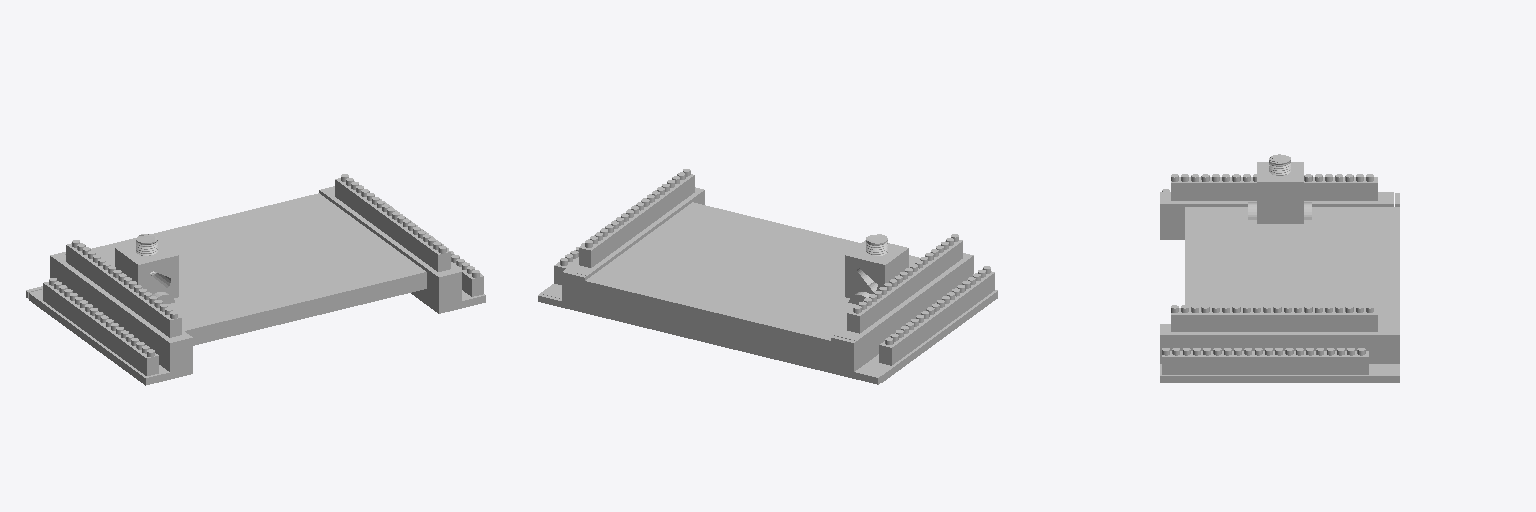
Rendered from PanelNeutralBus.obj.
The picture shows the model from 3 angles: view 1: azimuth 30°, elevation 25°; view 2: azimuth 150°, elevation 25°; view 3: azimuth 270°, elevation 25°; orthographic projection.
Visible parts, largest first — view 1: Cube.014_Cube.021, Cube.016_Cube.023, Cube.015_Cube.022, Cube_Cube.002, Cube.003_Cube.005, Cube.001_Cube.003, Cube.005_Cube.011, Cylinder, Cylinder.001, Cylinder.003; view 2: Cube.014_Cube.021, Cube.016_Cube.023, Cube_Cube.002, Cube.001_Cube.003, Cube.003_Cube.005, Cube.005_Cube.011, Cube.015_Cube.022, Cylinder, Cylinder.001, Cylinder.003; view 3: Cube.014_Cube.021, Cube.015_Cube.022, Cube.002_Cube.004, Cube.003_Cube.005, Cube.001_Cube.003, Cube.005_Cube.011, Cube.016_Cube.023, Cylinder.003, Cylinder.002, Cylinder.001.
Boxes of the visible parts, x1=… form: Cube.014_Cube.021: x1=26, y1=186, x2=426, y2=345; Cube.016_Cube.023: x1=29, y1=255, x2=192, y2=385; Cube.015_Cube.022: x1=321, y1=188, x2=485, y2=313; Cube_Cube.002: x1=43, y1=281, x2=158, y2=375; Cube.003_Cube.005: x1=335, y1=178, x2=450, y2=271; Cube.001_Cube.003: x1=66, y1=243, x2=181, y2=337; Cube.005_Cube.011: x1=115, y1=240, x2=178, y2=297; Cylinder: x1=49, y1=278, x2=154, y2=356; Cylinder.001: x1=72, y1=240, x2=177, y2=318; Cylinder.003: x1=341, y1=174, x2=446, y2=253; Cube.014_Cube.021: x1=538, y1=202, x2=919, y2=384; Cube.016_Cube.023: x1=834, y1=253, x2=997, y2=382; Cube_Cube.002: x1=879, y1=269, x2=994, y2=365; Cube.001_Cube.003: x1=847, y1=240, x2=962, y2=333; Cube.003_Cube.005: x1=579, y1=174, x2=694, y2=267; Cube.005_Cube.011: x1=845, y1=240, x2=908, y2=297; Cube.015_Cube.022: x1=540, y1=187, x2=704, y2=298; Cylinder: x1=885, y1=266, x2=990, y2=344; Cylinder.001: x1=853, y1=234, x2=958, y2=313; Cylinder.003: x1=585, y1=169, x2=690, y2=247; Cube.014_Cube.021: x1=1185, y1=193, x2=1399, y2=382; Cube.015_Cube.022: x1=1160, y1=324, x2=1394, y2=382; Cube.002_Cube.004: x1=1162, y1=351, x2=1368, y2=374; Cube.003_Cube.005: x1=1171, y1=308, x2=1377, y2=331; Cube.001_Cube.003: x1=1171, y1=177, x2=1377, y2=200; Cube.005_Cube.011: x1=1257, y1=162, x2=1303, y2=223; Cube.016_Cube.023: x1=1160, y1=192, x2=1393, y2=239; Cylinder.003: x1=1171, y1=305, x2=1373, y2=312; Cylinder.002: x1=1162, y1=348, x2=1365, y2=355; Cylinder.001: x1=1171, y1=174, x2=1373, y2=181.
Bounding box in the file's own units: 1.1 × 0.2724 × 0.6695.